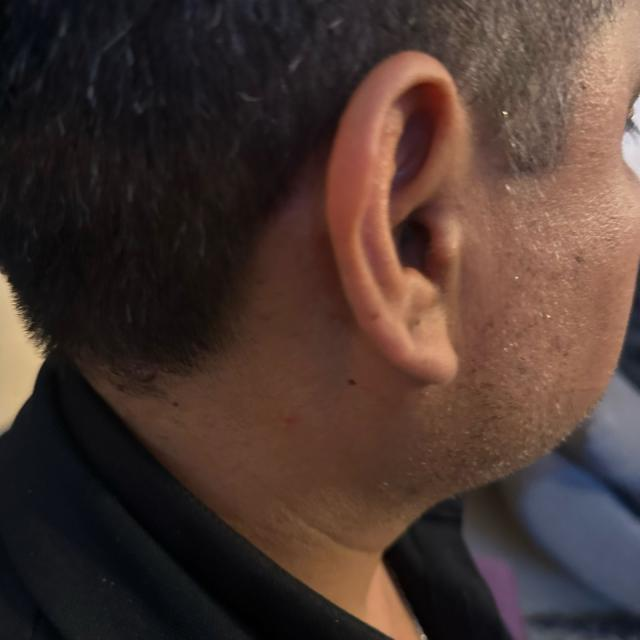ear: (324, 51, 475, 385)
